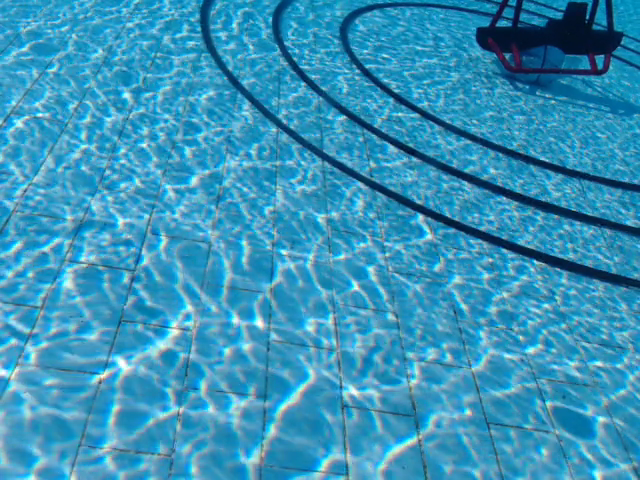submarine: (474, 1, 626, 76)
